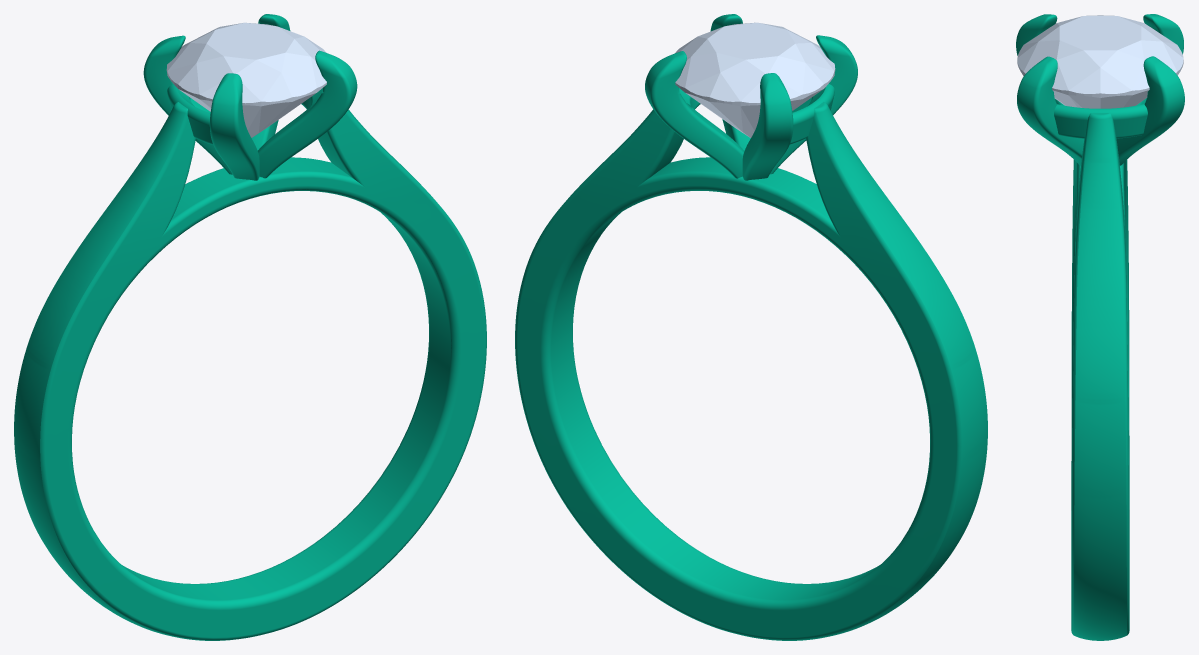
3 renders of one model, left to right at view 1: azimuth 30°, elevation 25°; view 2: azimuth 150°, elevation 25°; view 3: azimuth 270°, elevation 25°, orthographic.
Parts seen in each view (by area): view 1: RX-4363(front).3dm, Diamond_Round, Head Prong (×4); view 2: RX-4363(front).3dm, Diamond_Round, Head Prong (×4); view 3: RX-4363(front).3dm, Diamond_Round, Head Prong (×4).
Boxes of the visible parts, box(x1,y1,x2,y2) form: RX-4363(front).3dm: box(14, 84, 486, 640); Diamond_Round: box(166, 22, 326, 137); Head Prong (×4): box(143, 14, 357, 180); RX-4363(front).3dm: box(515, 84, 987, 640); Diamond_Round: box(675, 22, 835, 137); Head Prong (×4): box(645, 14, 857, 180); RX-4363(front).3dm: box(1054, 104, 1147, 640); Diamond_Round: box(1017, 15, 1183, 108); Head Prong (×4): box(1016, 14, 1184, 165).
Size of the model in its own units: 2.45 by 3.06 by 0.8012.
